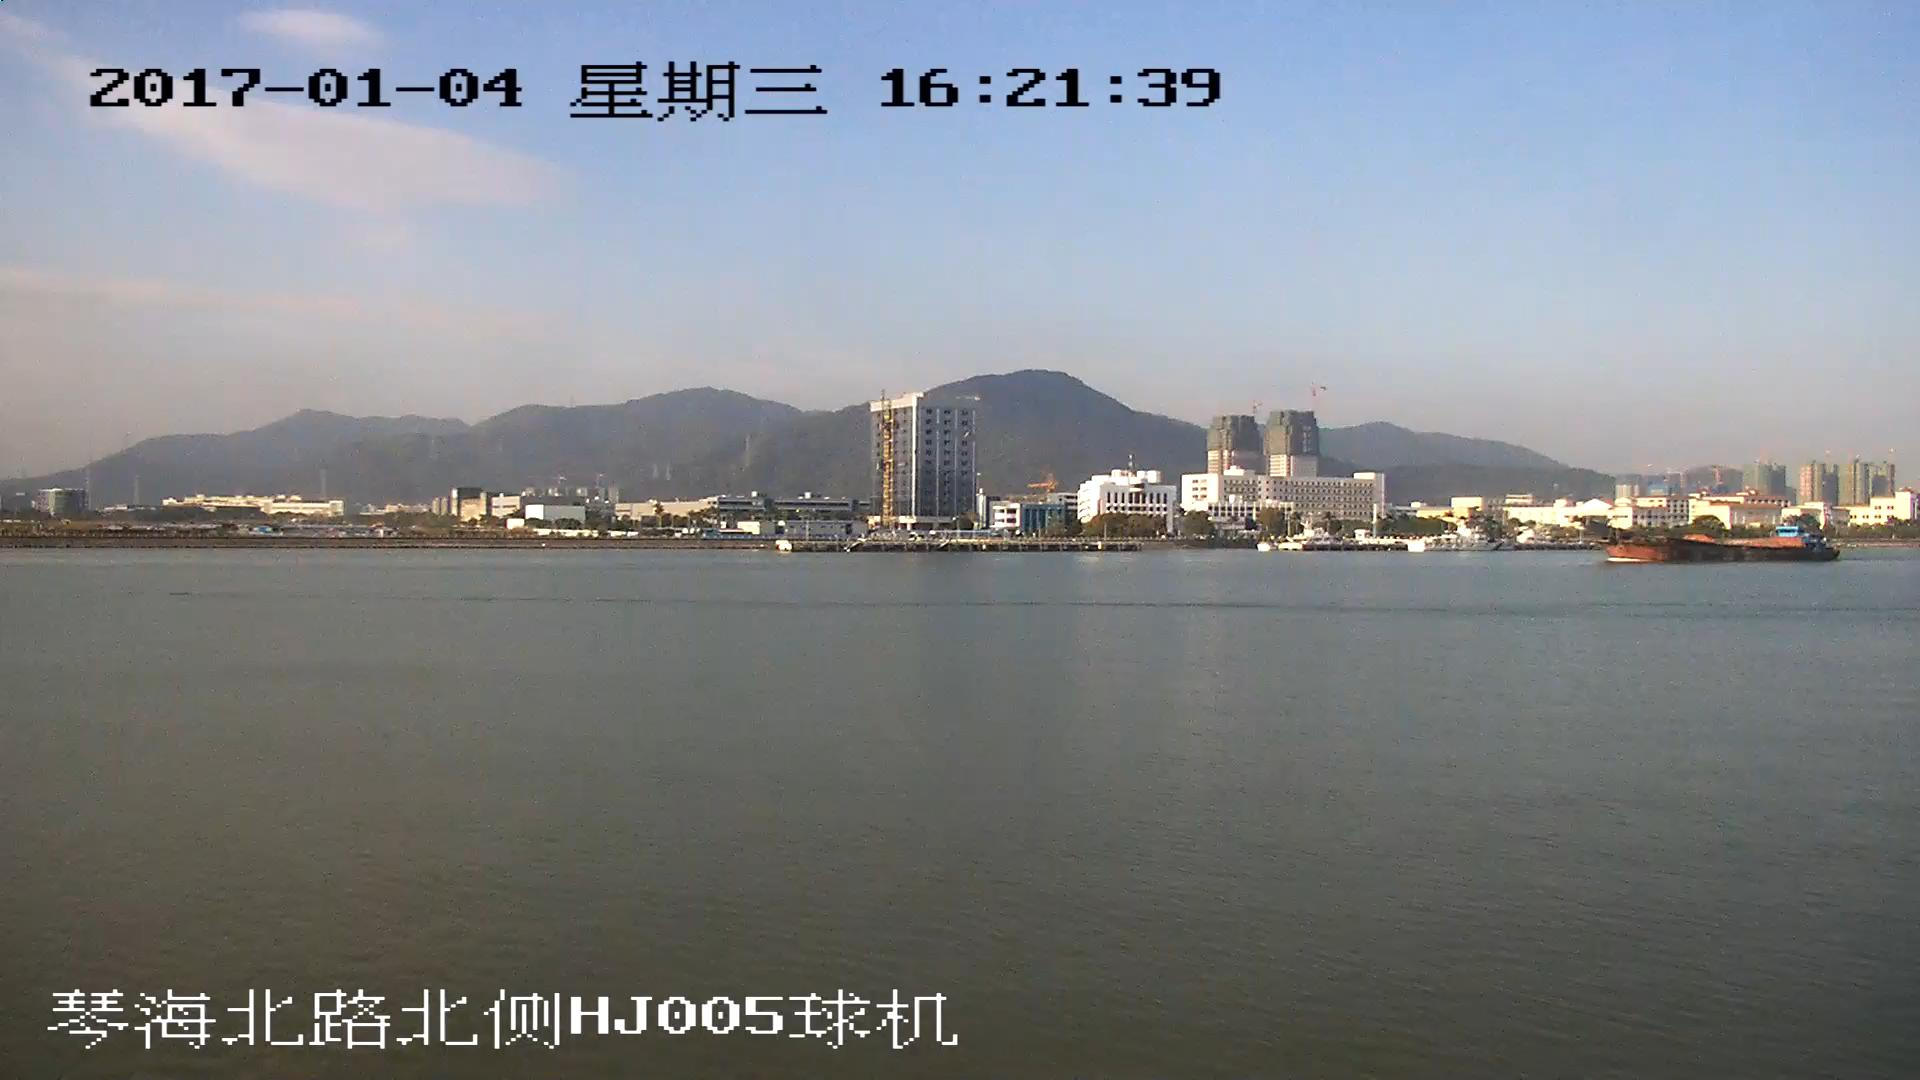bulk cargo carrier: (1584, 518, 1841, 562)
